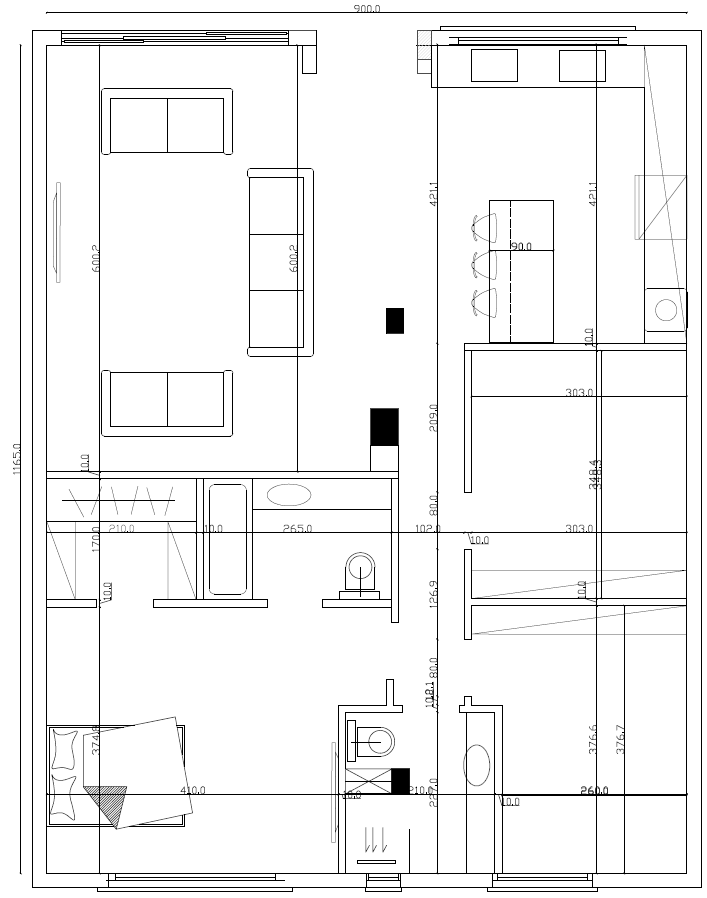window: (99, 864, 290, 898), (482, 864, 601, 898), (355, 864, 409, 898)
